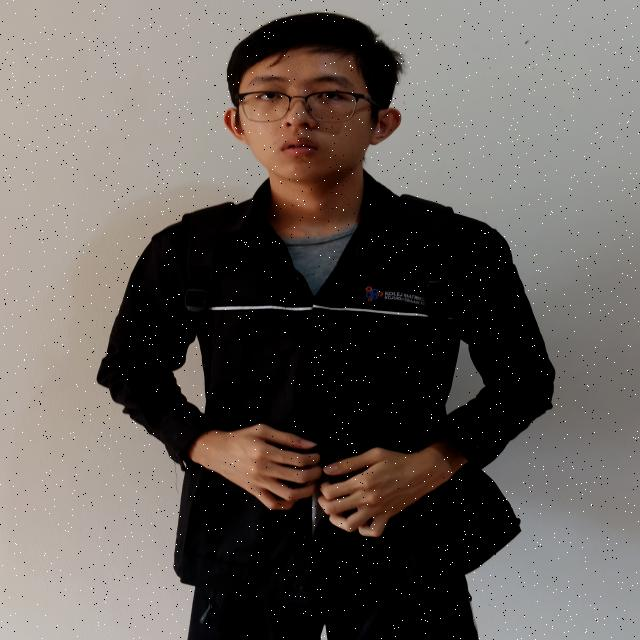person_with_labcoat: (98, 13, 554, 640)
